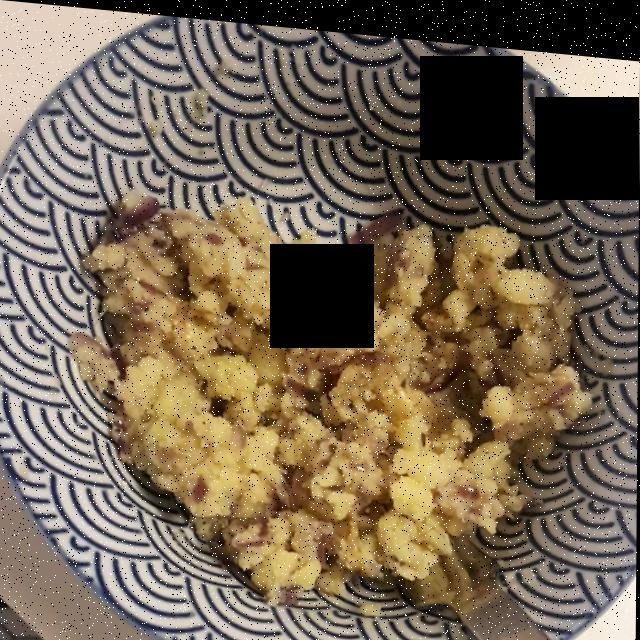potatoes: (89, 195, 581, 591)
